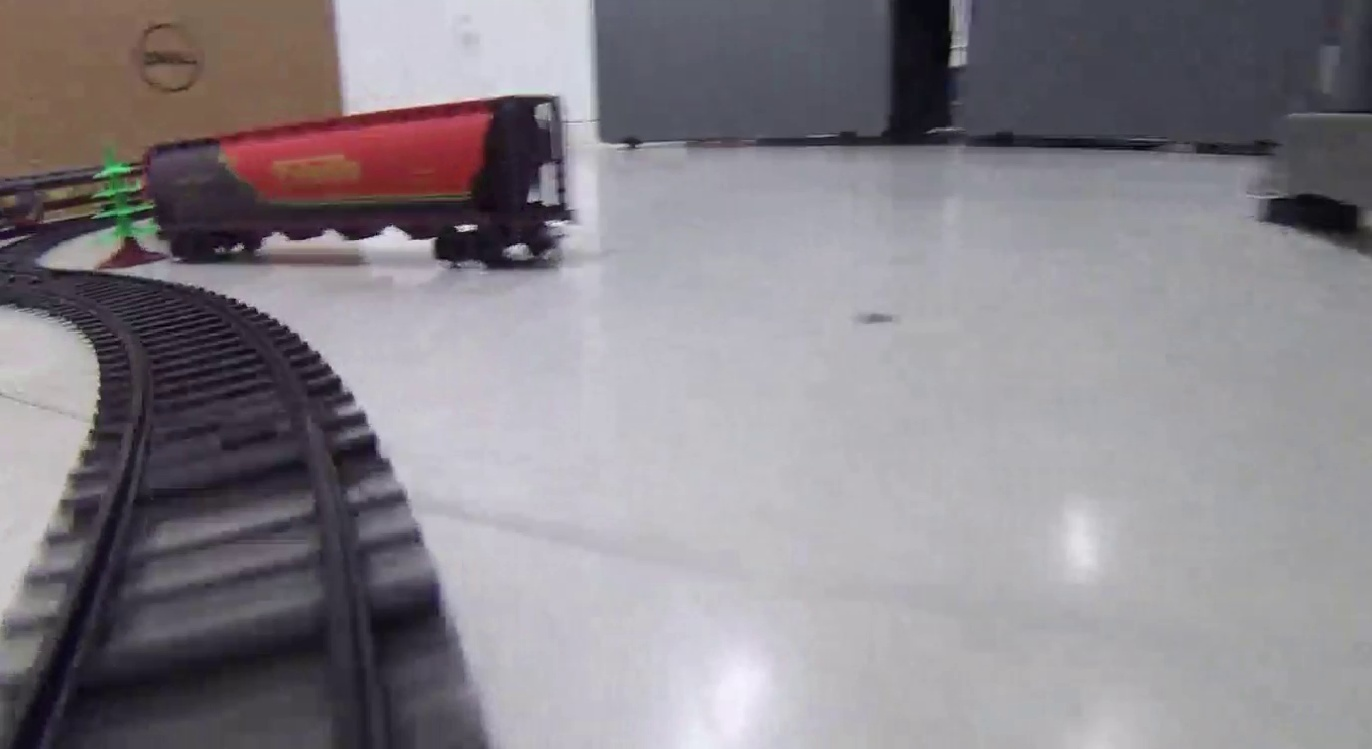tree: (90, 146, 161, 265)
